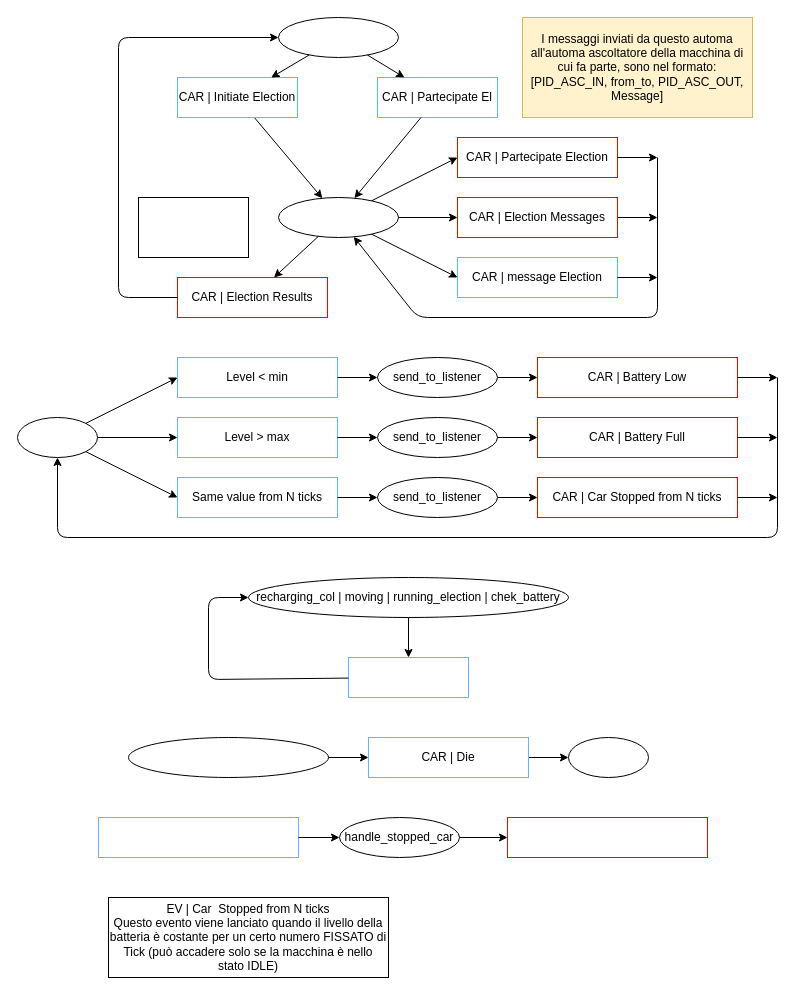
Image size: 803x995. Some labels were removed from this diagram. The shapes that lost their labels are listed below. From the top down, each one's box as (x1, y1, x2, y2) in pixels, then its label:
(278, 16, 398, 58): idle
(138, 196, 248, 258): Risultati: Perso Vinto + percorso
(278, 196, 398, 238): Running Election
(16, 416, 98, 458): check_battery
(348, 656, 468, 698): ENV | Tick
(128, 736, 328, 778): Automa of car
(568, 736, 648, 778): dead
(98, 816, 298, 858): BAT | Car Stopped from 100 ticks
(506, 816, 708, 858): MOV | Battery Charged From Sun
